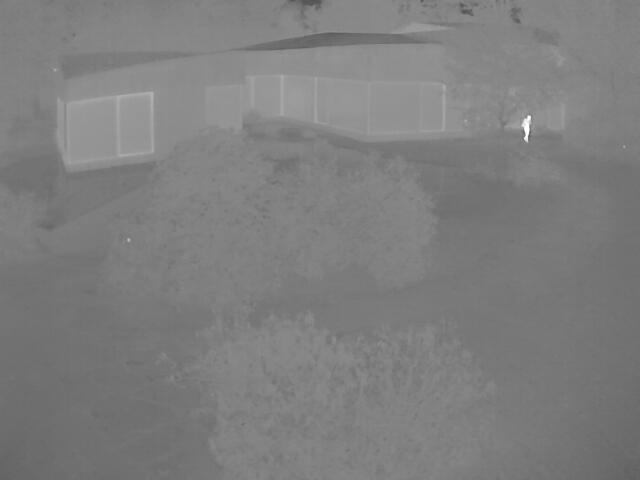person: (519, 114, 530, 141)
